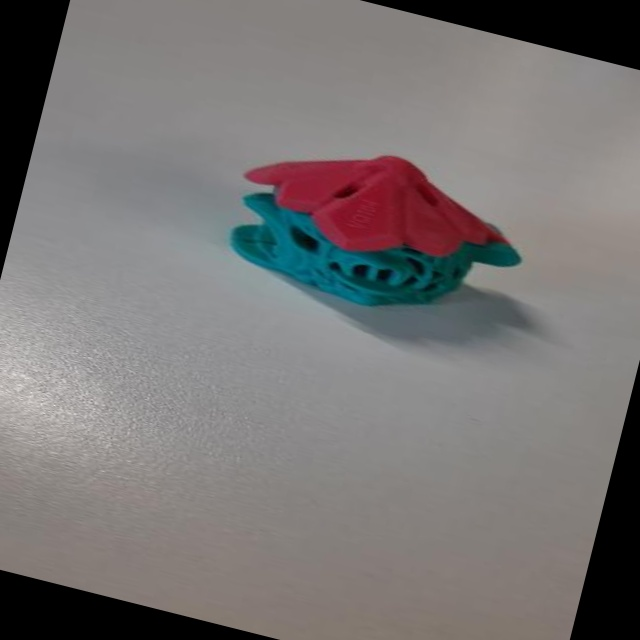House: (187, 98, 577, 396)
